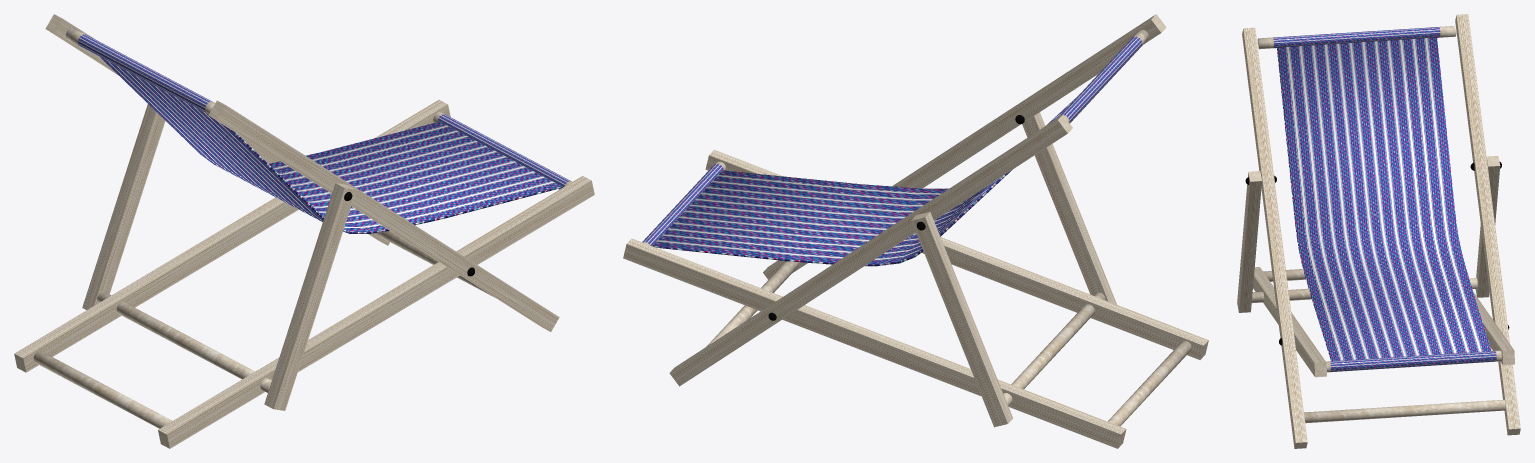
Rendered from beach_chair.glb.
3 renders of one model, left to right at view 1: azimuth 30°, elevation 25°; view 2: azimuth 150°, elevation 25°; view 3: azimuth 270°, elevation 25°, orthographic. The views are drawn at different scales.
Visible parts, largest first — view 1: Plane, Cube.002, Cube.003, Cube, Cube.004, Cube.005, Cylinder.001, Cylinder.003, Cylinder.002, Cylinder.004, Cube.001, Cylinder; view 2: Plane, Cube.003, Cube.001, Cube.002, Cube, Cube.005, Cube.004, Cylinder.001, Cylinder.003, Cylinder.002, Cylinder.004, Cylinder; view 3: Plane, Cube, Cube.001, Cylinder, Cylinder.003, Cube.004, Cylinder.004, Cube.002, Cube.005, Cube.003, Cylinder.001.
Boxes of the visible parts, x1,y1,x2,y2 form: Plane: [100, 57, 561, 233]; Cube.002: [158, 176, 594, 448]; Cube.003: [14, 100, 450, 372]; Cube: [208, 100, 559, 331]; Cube.004: [264, 183, 356, 410]; Cube.005: [82, 104, 165, 310]; Cylinder.001: [97, 291, 271, 392]; Cylinder.003: [66, 28, 214, 114]; Cylinder.002: [33, 351, 172, 428]; Cylinder.004: [433, 112, 571, 189]; Cube.001: [45, 14, 389, 245]; Cylinder: [374, 231, 494, 297]; Plane: [652, 95, 1078, 266]; Cube.003: [623, 238, 1126, 448]; Cube.001: [669, 115, 1072, 386]; Cube.002: [705, 149, 1208, 359]; Cube: [763, 14, 1166, 279]; Cube.005: [911, 212, 1012, 427]; Cube.004: [1022, 112, 1116, 304]; Cylinder.001: [1003, 292, 1105, 405]; Cylinder.003: [1058, 29, 1148, 123]; Cylinder.002: [1108, 341, 1191, 426]; Cylinder.004: [642, 161, 726, 245]; Cylinder: [706, 261, 799, 346]; Plane: [1277, 37, 1491, 361]; Cube: [1242, 27, 1307, 448]; Cube.001: [1455, 14, 1520, 435]; Cylinder: [1304, 399, 1505, 423]; Cylinder.003: [1257, 26, 1456, 49]; Cube.004: [1237, 171, 1261, 312]; Cylinder.004: [1326, 350, 1501, 372]; Cube.002: [1253, 267, 1326, 377]; Cube.005: [1475, 156, 1500, 297]; Cube.003: [1473, 291, 1514, 365]; Cylinder.001: [1251, 278, 1477, 303].
Size of the model in its own units: 359 by 231 by 214.
3 materials, 2 textured.
